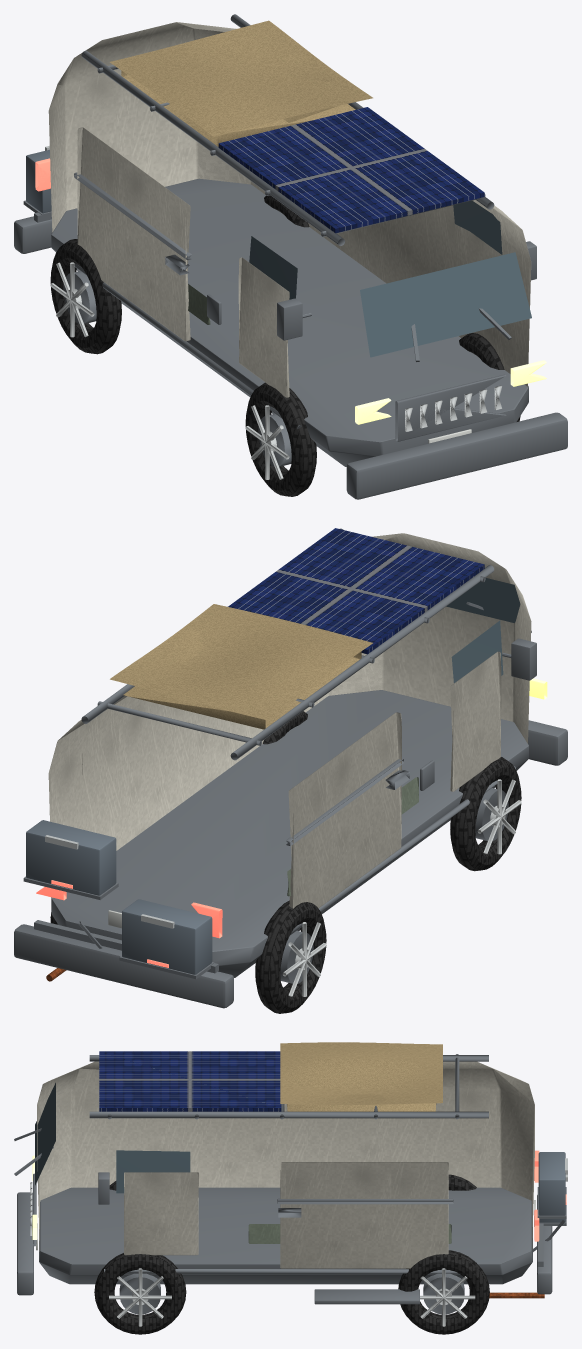
File: modulo_v7.glb
The picture shows the model from 3 angles, top to bottom: view 1: azimuth 30°, elevation 25°; view 2: azimuth 150°, elevation 25°; view 3: azimuth 270°, elevation 25°; orthographic projection. The views are drawn at different scales.
Parts seen in each view (by area): view 1: modulo_v7_steel_dark, modulo_v7_paint_cream, modulo_v7_pv_v, modulo_v7_canvas_sand, modulo_v7_glass_tinted, modulo_v7_WHEEL_roda_-1_1.52, modulo_v7_WHEEL_roda_-1_-1.65, modulo_v7_lamp_amber, modulo_v7_metal_brushed, modulo_v7_battery_v, modulo_v7_WHEEL_roda_1_1.52; view 2: modulo_v7_steel_dark, modulo_v7_paint_cream, modulo_v7_canvas_sand, modulo_v7_pv_v, modulo_v7_battery_v, modulo_v7_WHEEL_roda_-1_-1.65, modulo_v7_WHEEL_roda_-1_1.52, modulo_v7_glass_tinted, modulo_v7_lamp_red; view 3: modulo_v7_paint_cream, modulo_v7_steel_dark, modulo_v7_canvas_sand, modulo_v7_pv_v, modulo_v7_WHEEL_roda_1_1.52, modulo_v7_WHEEL_roda_1_-1.65, modulo_v7_glass_tinted, modulo_v7_battery_v, modulo_v7_paint_olive, modulo_v7_rust_gen.
Part boxes in pixels (box(x1,y1,x2,y2)): modulo_v7_steel_dark: box(14, 14, 567, 499); modulo_v7_paint_cream: box(48, 22, 531, 397); modulo_v7_pv_v: box(218, 107, 484, 233); modulo_v7_canvas_sand: box(110, 20, 372, 146); modulo_v7_glass_tinted: box(249, 200, 531, 357); modulo_v7_WHEEL_roda_-1_1.52: box(245, 382, 316, 496); modulo_v7_WHEEL_roda_-1_-1.65: box(50, 239, 121, 354); modulo_v7_lamp_amber: box(355, 360, 546, 424); modulo_v7_metal_brushed: box(45, 146, 501, 431); modulo_v7_battery_v: box(26, 149, 51, 213); modulo_v7_WHEEL_roda_1_1.52: box(459, 333, 520, 421); modulo_v7_steel_dark: box(14, 528, 567, 1008); modulo_v7_paint_cream: box(48, 533, 531, 908); modulo_v7_canvas_sand: box(110, 604, 372, 729); modulo_v7_pv_v: box(228, 528, 484, 654); modulo_v7_battery_v: box(26, 820, 212, 974); modulo_v7_WHEEL_roda_-1_-1.65: box(255, 900, 326, 1013); modulo_v7_WHEEL_roda_-1_1.52: box(450, 757, 521, 871); modulo_v7_glass_tinted: box(446, 577, 531, 682); modulo_v7_lamp_red: box(36, 880, 222, 967); modulo_v7_paint_cream: box(37, 1061, 534, 1268); modulo_v7_steel_dark: box(14, 1054, 566, 1304); modulo_v7_canvas_sand: box(280, 1042, 442, 1111); modulo_v7_pv_v: box(99, 1051, 281, 1111); modulo_v7_WHEEL_roda_1_1.52: box(94, 1253, 186, 1334); modulo_v7_WHEEL_roda_1_-1.65: box(398, 1250, 489, 1334); modulo_v7_glass_tinted: box(35, 1082, 190, 1193); modulo_v7_battery_v: box(538, 1152, 565, 1222); modulo_v7_paint_olive: box(248, 1224, 451, 1243); modulo_v7_rust_gen: box(489, 1292, 544, 1298).
Bounding box in the file's own units: 2.47 × 2.59 × 5.78.
13 materials, 6 textured.
